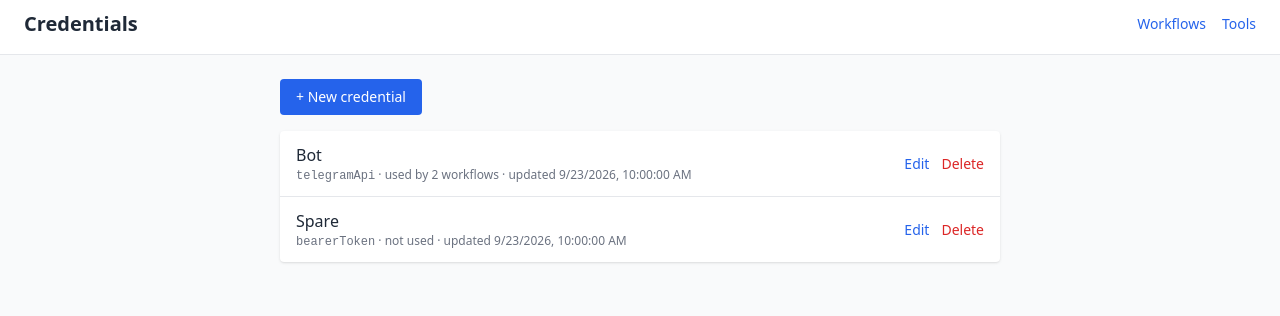
Test case: CredentialsView › falls back to a generic message for an unexpected 409 body
The image size is (1280, 316).
Click the button with test id "delete-credential" in the row of "telegramApi" at point(963, 164), box [941,154,984,174]
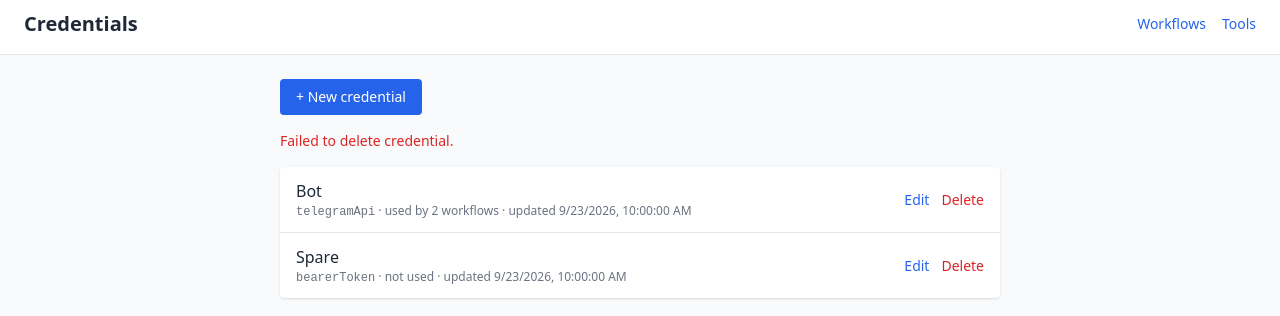
Result: the text "Failed to delete credential." is shown at [280,131,453,150]
